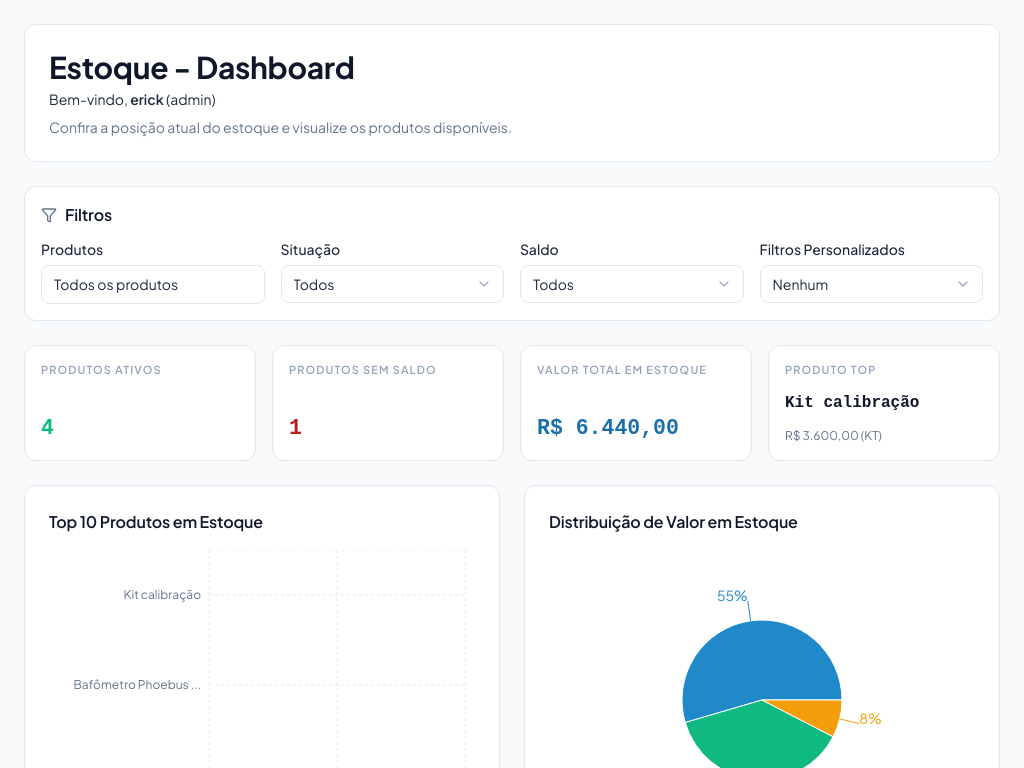
Test: filtros de selecao em Estoque › Situacao Inativo deixa so os inativos, na tabela e nos KPIs
Select "Inativo" in the dropdown labelled "Situação" at [392, 284], box [280,265,504,303]
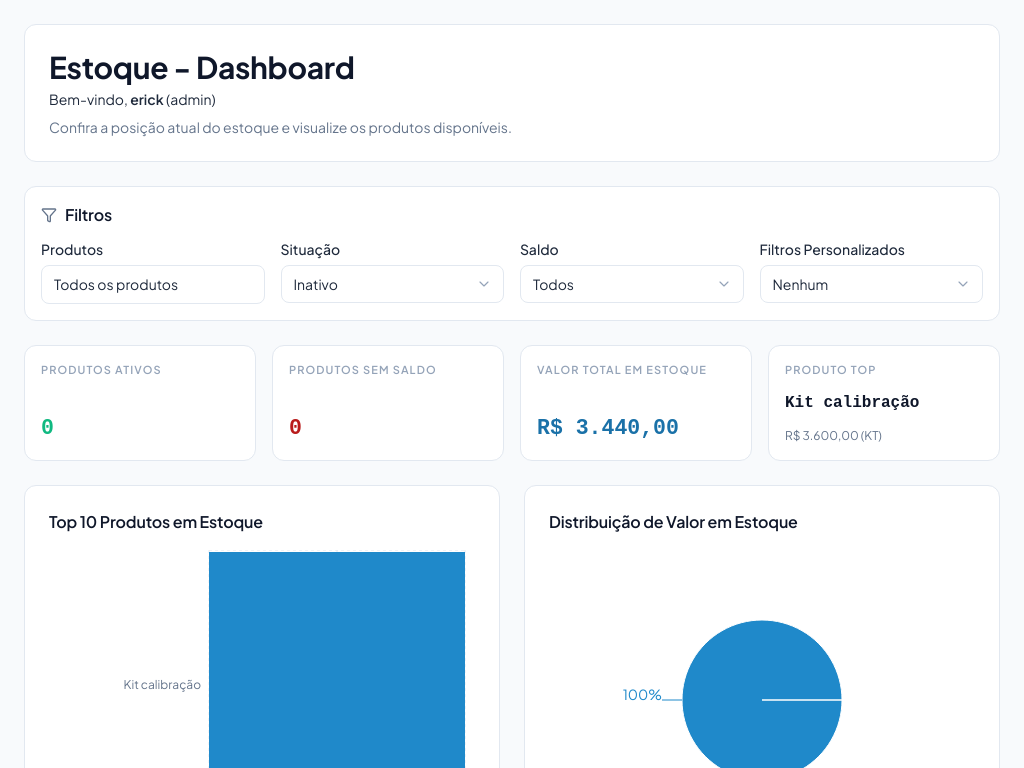
Check: the text "Produtos Ativos" shows "0", box [41,416,54,440]
